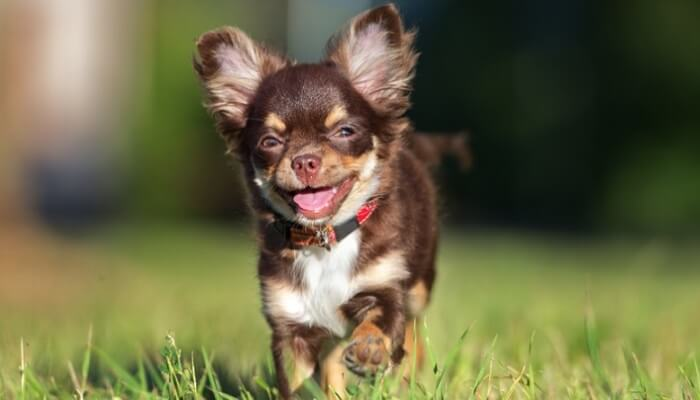dog: (155, 1, 494, 400)
